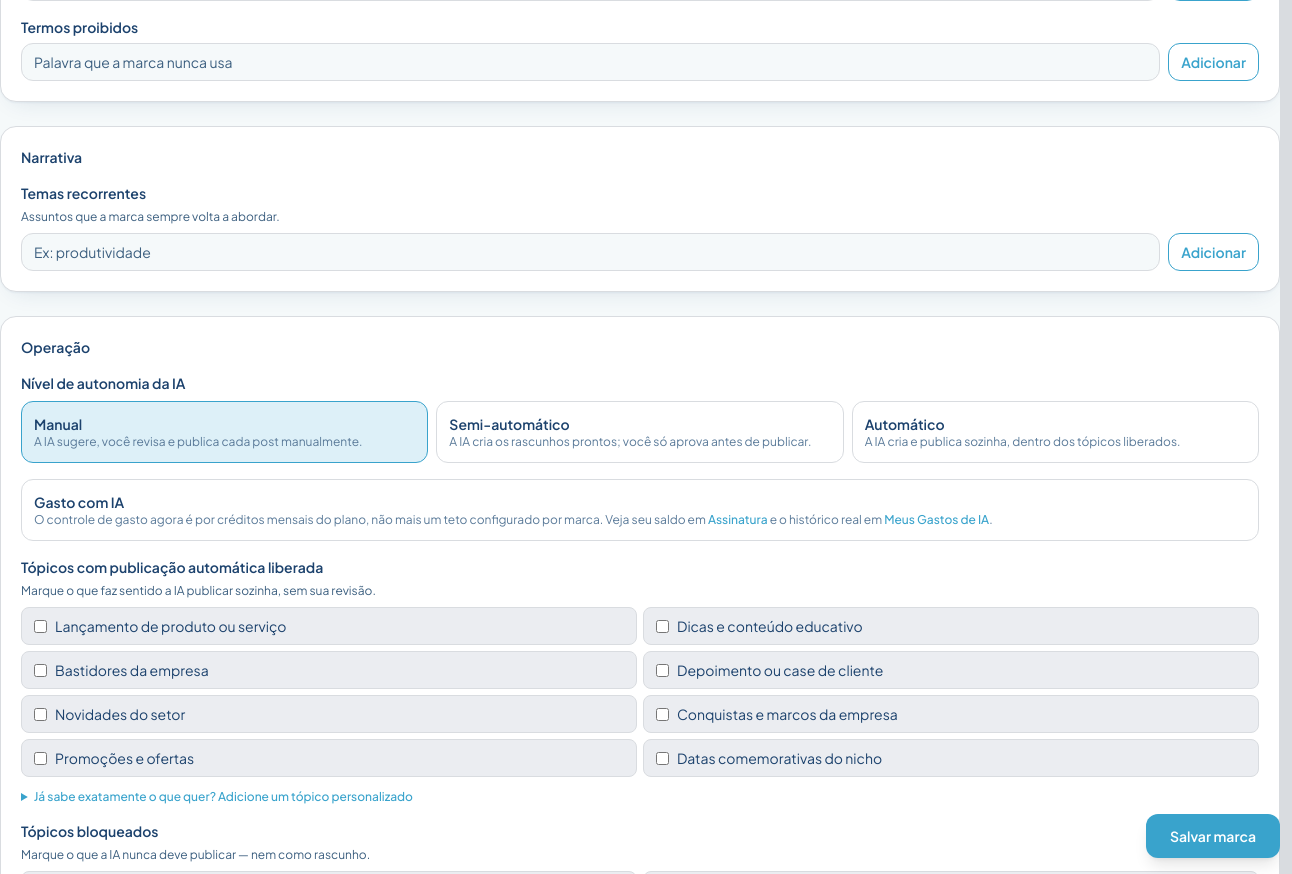
Test case: BrandSettingsPage - guardrail de posts automáticos por dia › permite limpar e redigitar o valor sem travar em 1 ou 10, e clampa pro teto ao sair do campo
(page scrolled)
Click the text "Automático" at (905, 424), box top-left (865, 415), bottom-right (945, 433)
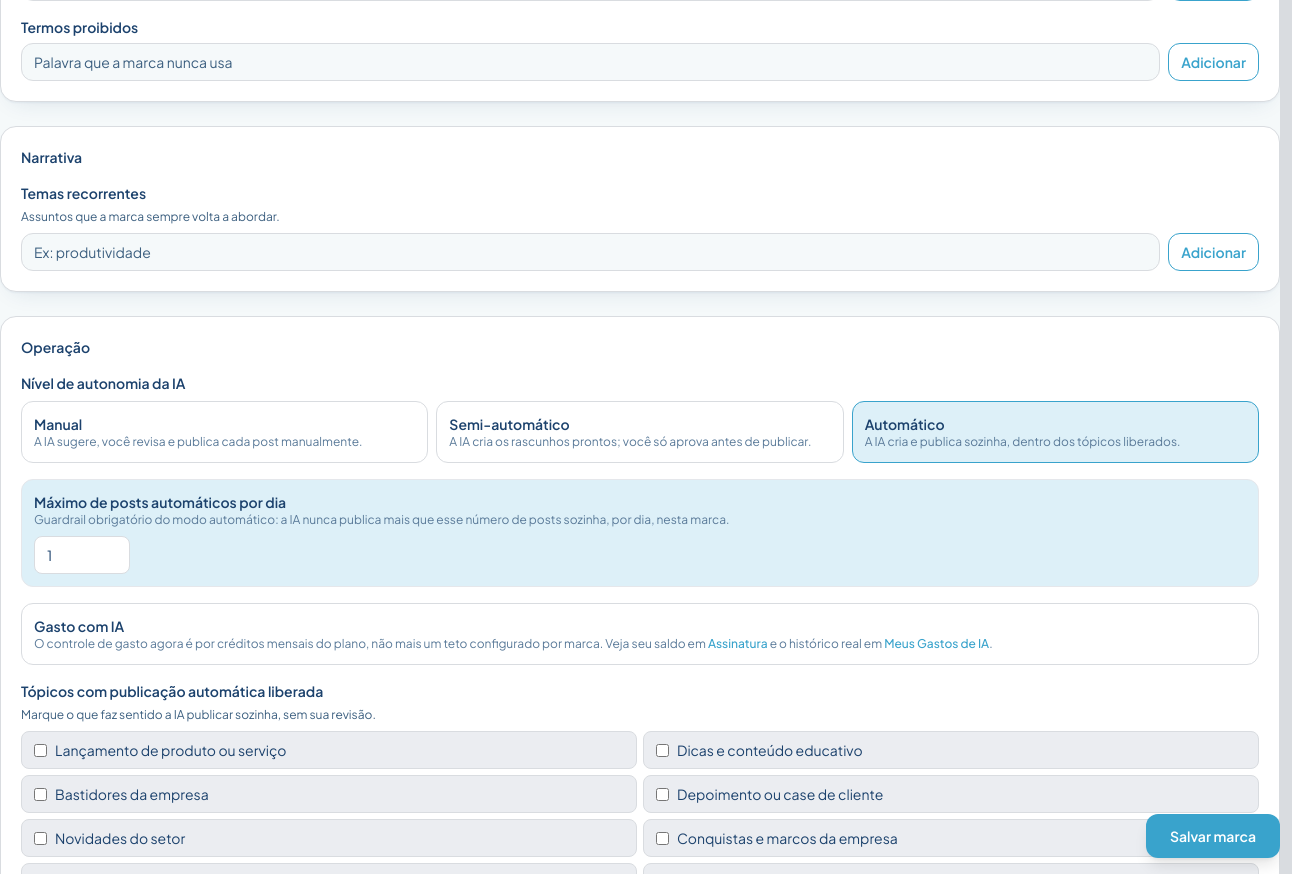
# Limpar o campo pra digitar outro valor não pode travar em 1 (bug original).
Clear the number field labelled "Máximo de posts automáticos por dia" at (82, 555), box top-left (34, 536), bottom-right (130, 574)
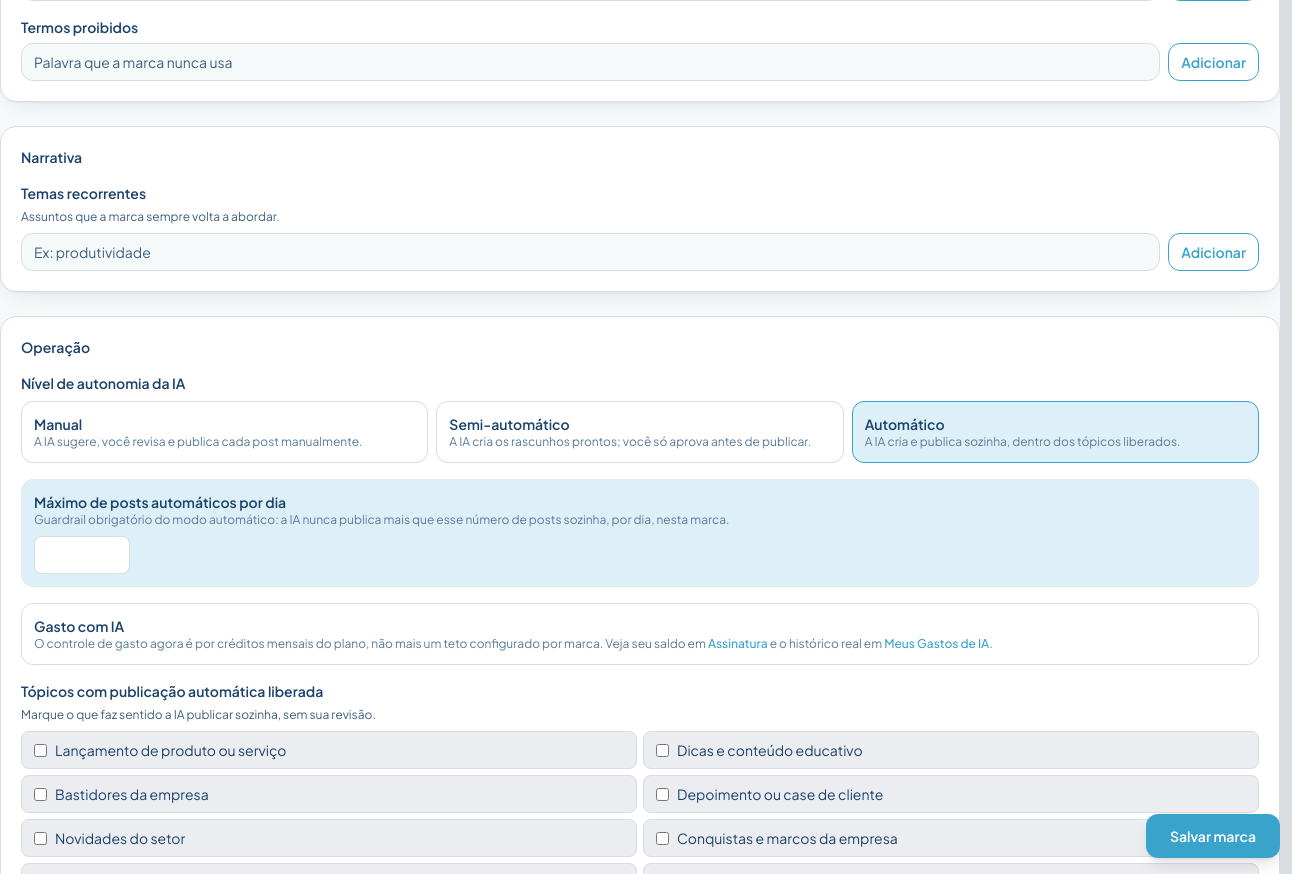
Type "5" into the number field labelled "Máximo de posts automáticos por dia" at (82, 555), box top-left (34, 536), bottom-right (130, 574)
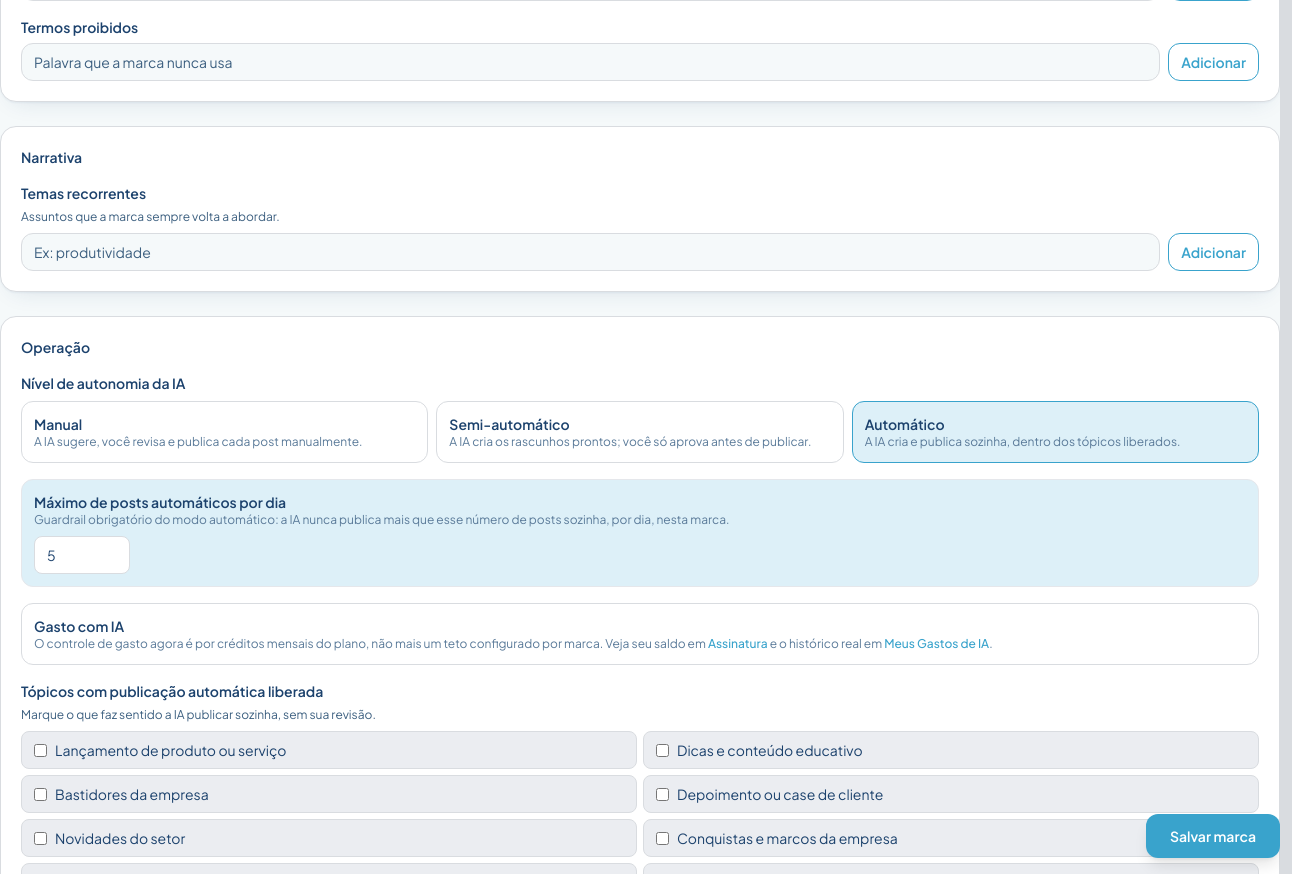
# Valor acima do teto fica livre durante a digitação e só clampa ao sair do campo.
Replace the text in the number field labelled "Máximo de posts automáticos por dia" with "99" at (82, 555), box top-left (34, 536), bottom-right (130, 574)
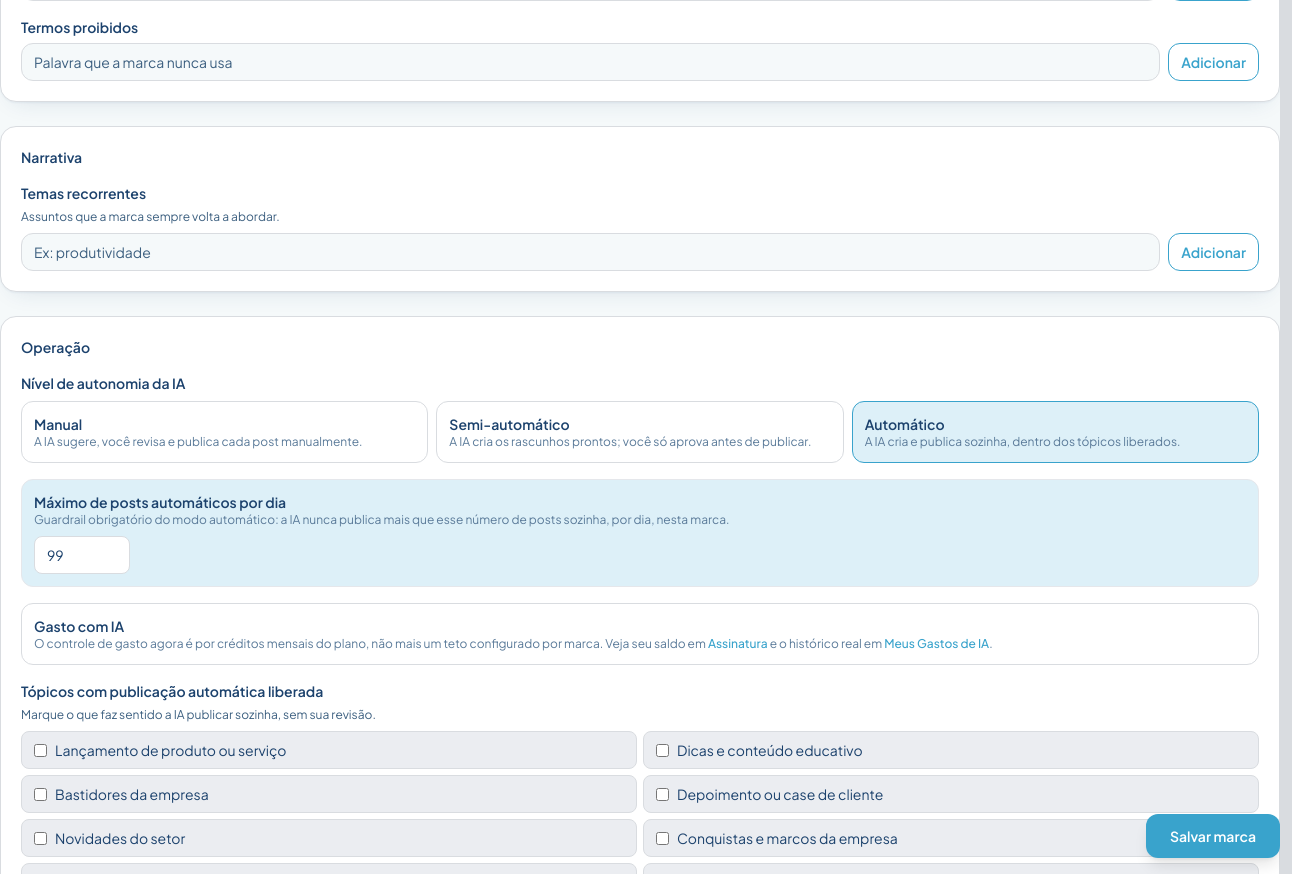
Leave the number field labelled "Máximo de posts automáticos por dia", box top-left (34, 536), bottom-right (130, 574)
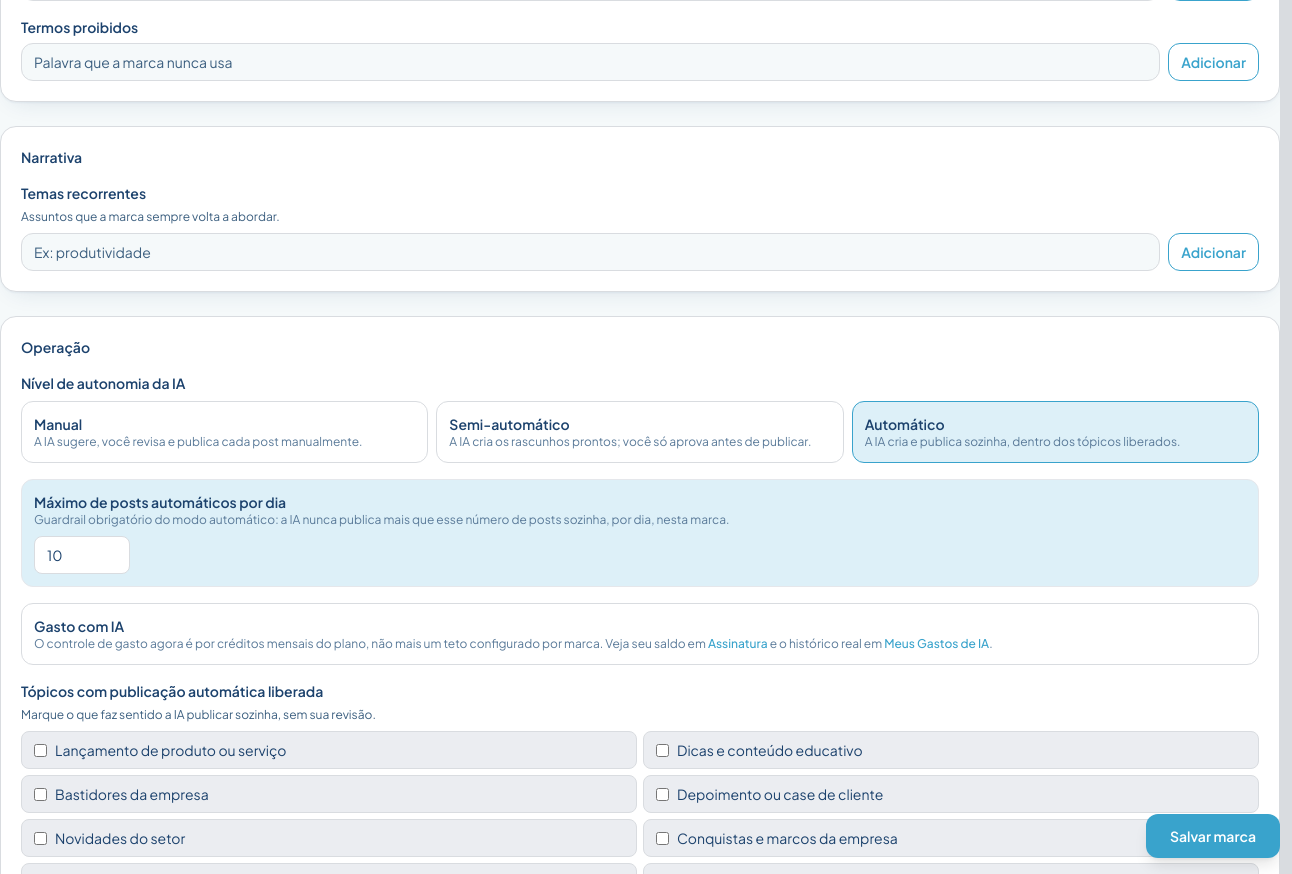
Expected: the number field labelled "Máximo de posts automáticos por dia" holds "10", top-left (34, 536), bottom-right (130, 574)
